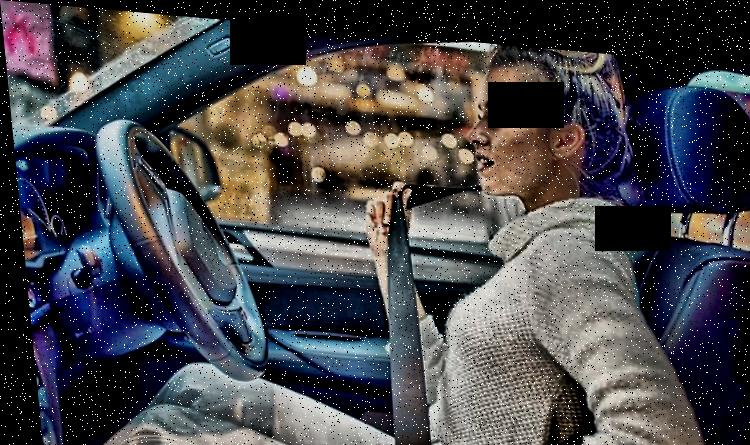seatbelt: (340, 156, 521, 445)
